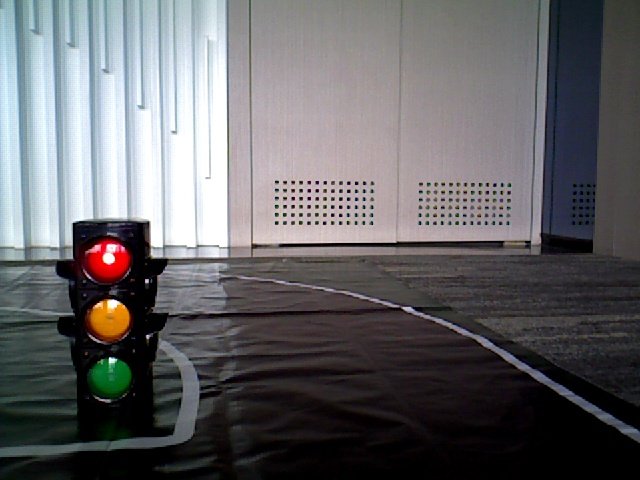red: (73, 225, 145, 403)
